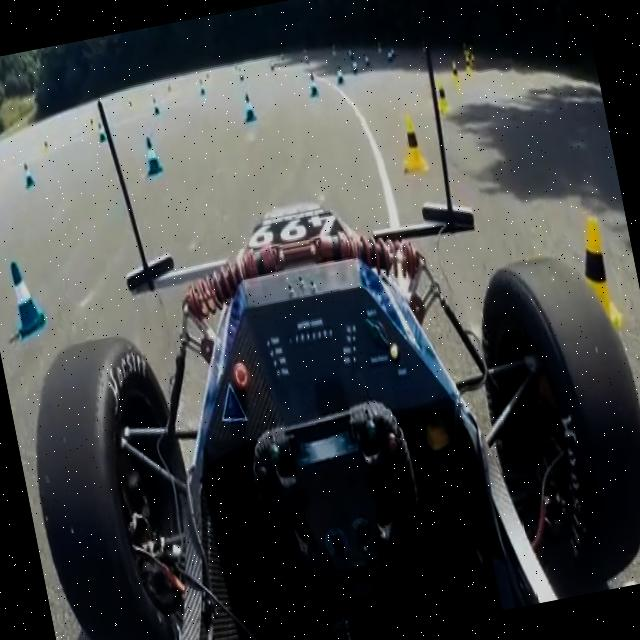blue_cone: (5, 258, 50, 342), (141, 134, 164, 177), (240, 92, 258, 124), (306, 71, 320, 99), (22, 162, 36, 190)
yellow_cone: (559, 212, 625, 338), (394, 113, 430, 175)
